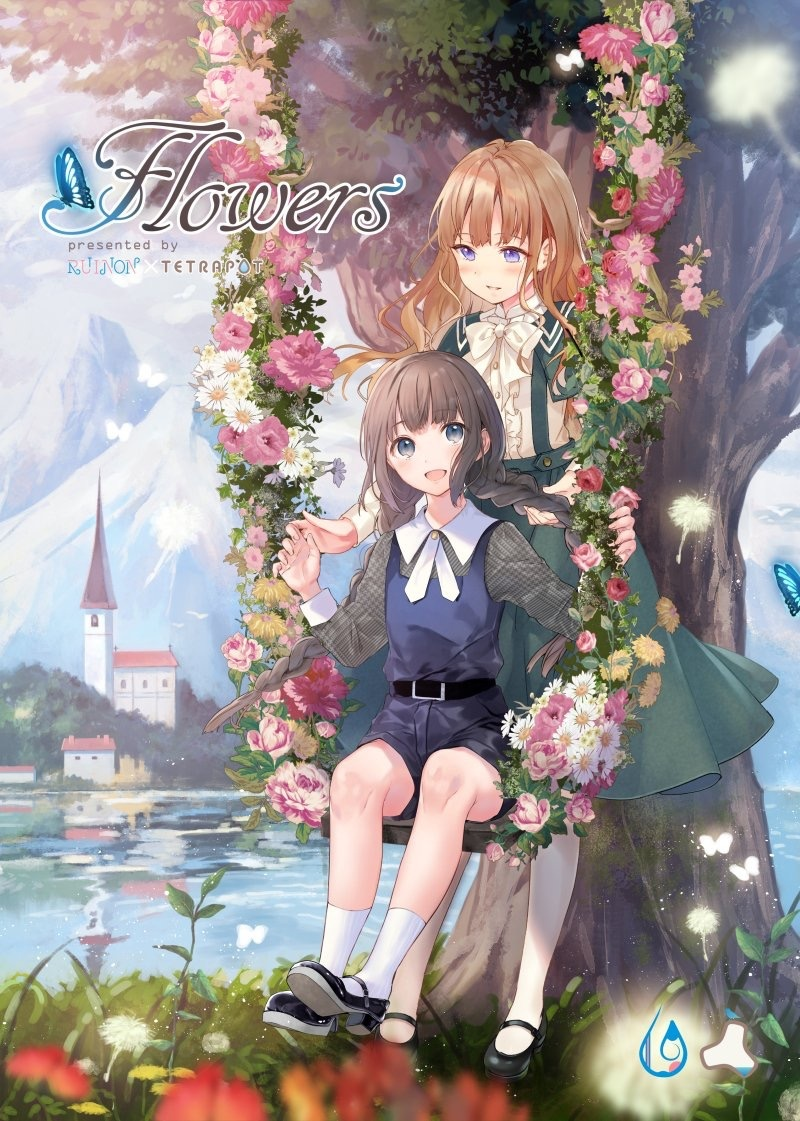纸片人正脸: (416, 134, 596, 312), (360, 352, 509, 510)
